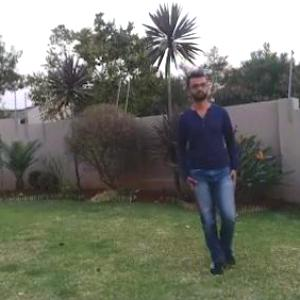follow: (174, 62, 250, 284)
